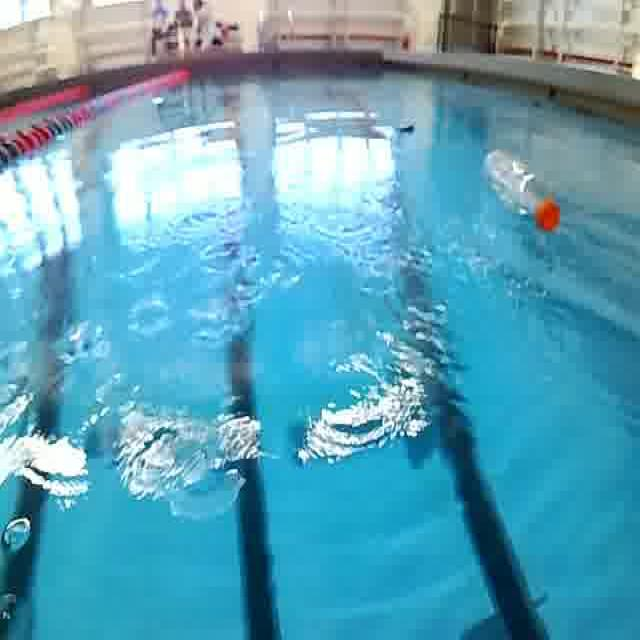Bottle: (480, 142, 567, 240)
